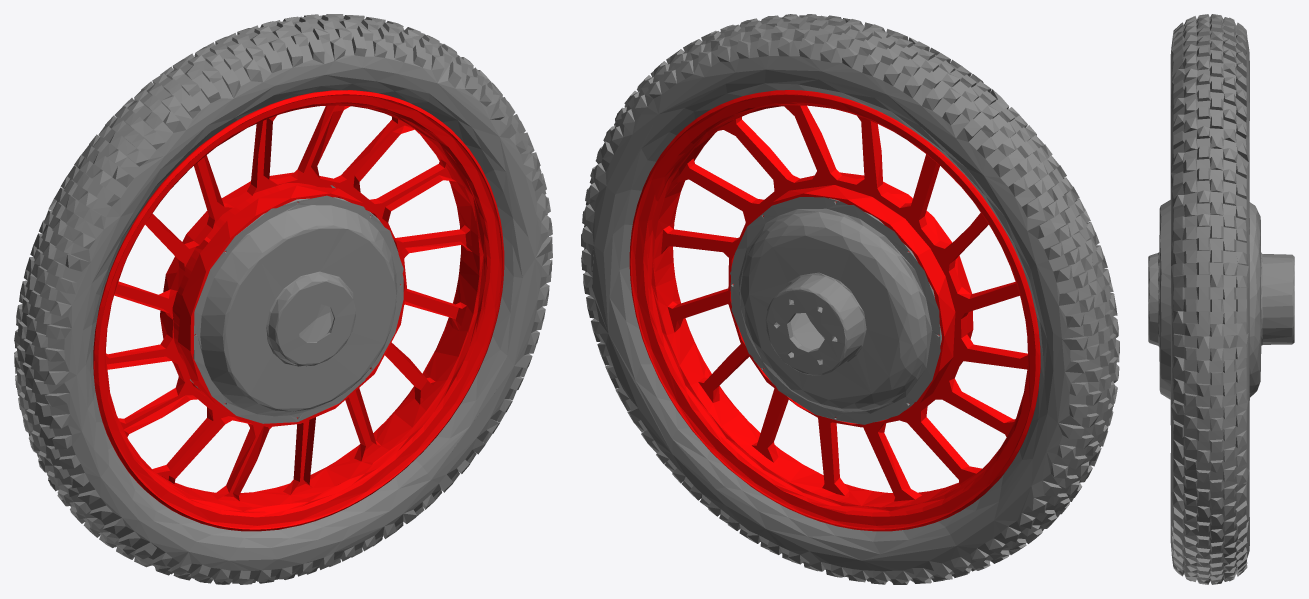
File: wheel_front_left.dae
3 renders of one model, left to right at view 1: azimuth 30°, elevation 25°; view 2: azimuth 150°, elevation 25°; view 3: azimuth 270°, elevation 25°, orthographic. The views are drawn at different scales.
Parts seen in each view (by area): view 1: wheel_front_left; view 2: wheel_front_left; view 3: wheel_front_left.
Part boxes in pixels (<box>): wheel_front_left: <box>14,14,552,584</box>; wheel_front_left: <box>581,14,1119,584</box>; wheel_front_left: <box>1148,14,1294,584</box>.
Size of the model in its own units: 0.5071 by 0.13 by 0.5073.
